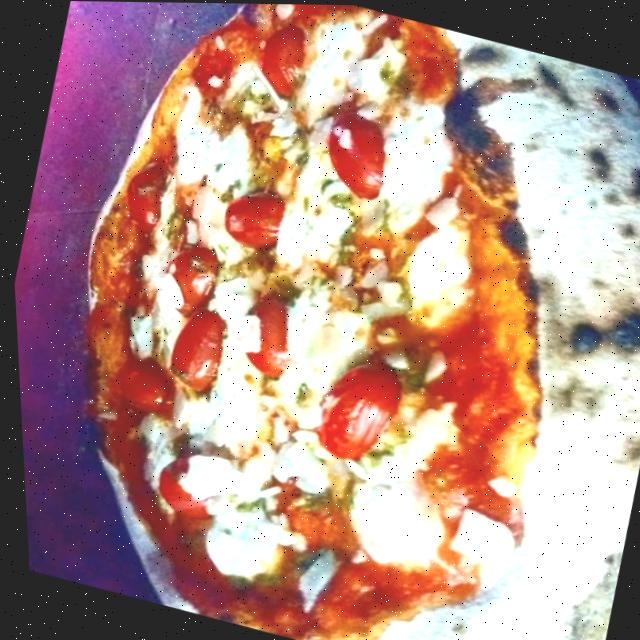pizza: (0, 0, 640, 640)
tomatoes: (301, 347, 408, 471), (311, 99, 399, 203), (154, 302, 234, 395), (139, 444, 229, 525), (225, 279, 297, 379), (243, 12, 314, 102), (151, 238, 221, 323), (212, 180, 290, 254), (99, 347, 179, 418), (112, 151, 169, 229)
